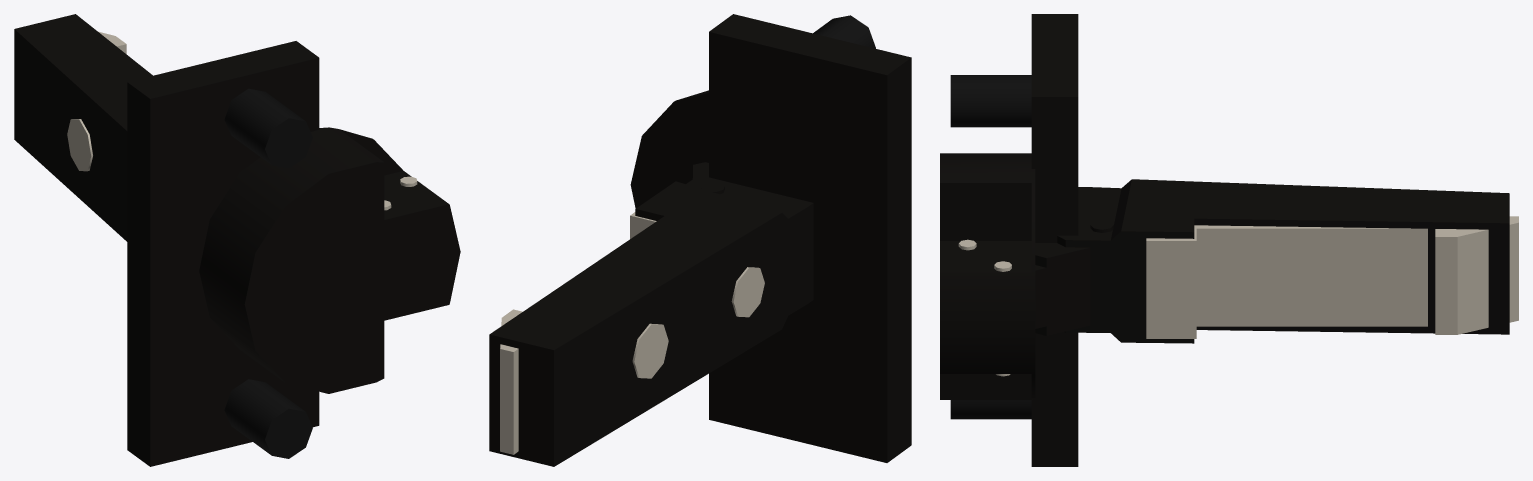
3 views of the same model, side by side, from view 1: azimuth 30°, elevation 25°; view 2: azimuth 150°, elevation 25°; view 3: azimuth 270°, elevation 25° (orthographic). The views are drawn at different scales.
Parts seen in each view (by area): view 1: bau0016962400-2, bau0015166656-1; view 2: bau0016962400-2, bau0015166656-1, bau0019426112-1; view 3: bau0016962400-2, bau0019426112-1, bau0015166656-1, bau0015167363-1.
Part boxes in pixels (x1,y1,x2,y2): bau0016962400-2: (127, 41, 460, 466); bau0015166656-1: (14, 14, 152, 241); bau0016962400-2: (630, 14, 911, 462); bau0015166656-1: (489, 170, 813, 466); bau0019426112-1: (500, 212, 656, 454); bau0016962400-2: (940, 14, 1078, 466); bau0019426112-1: (1146, 216, 1518, 338); bau0015166656-1: (1057, 179, 1509, 343); bau0015167363-1: (1035, 243, 1090, 335).
Bounding box in the file's own units: 42.92 × 57 × 80.8.
